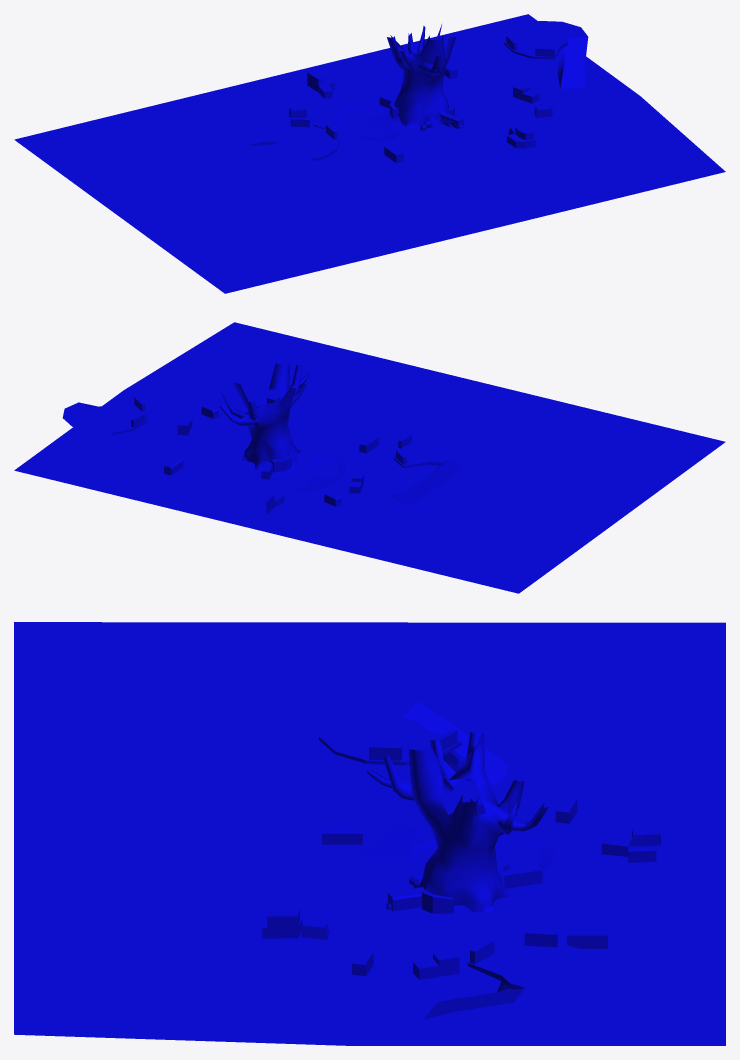
File: gltf__Models__map__Forest__peterPan__peterPan_mergedCollision.glb
3 views of the same model, one above another, from view 1: azimuth 30°, elevation 25°; view 2: azimuth 150°, elevation 25°; view 3: azimuth 270°, elevation 25° (orthographic). The views are drawn at different scales.
Parts seen in each view (by area): view 1: peterPan_mergedCollision; view 2: peterPan_mergedCollision; view 3: peterPan_mergedCollision.
Boxes of the visible parts, <box> form: peterPan_mergedCollision: <box>14,14,725,293</box>; peterPan_mergedCollision: <box>14,322,725,593</box>; peterPan_mergedCollision: <box>14,622,725,1045</box>.
Size of the model in its own units: 32.96 by 5.58 by 23.41.
